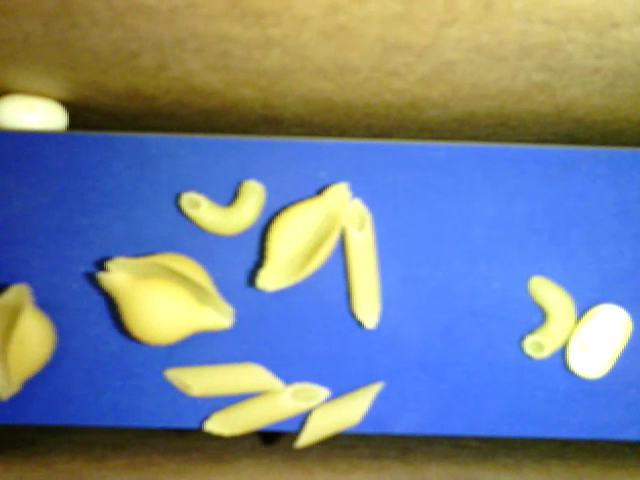elbow: (178, 178, 267, 236), (523, 275, 574, 356)
penne: (201, 380, 331, 439), (294, 382, 383, 450), (344, 197, 381, 329), (163, 362, 287, 396)
shell: (96, 251, 235, 348), (255, 181, 354, 294), (1, 282, 59, 401)
